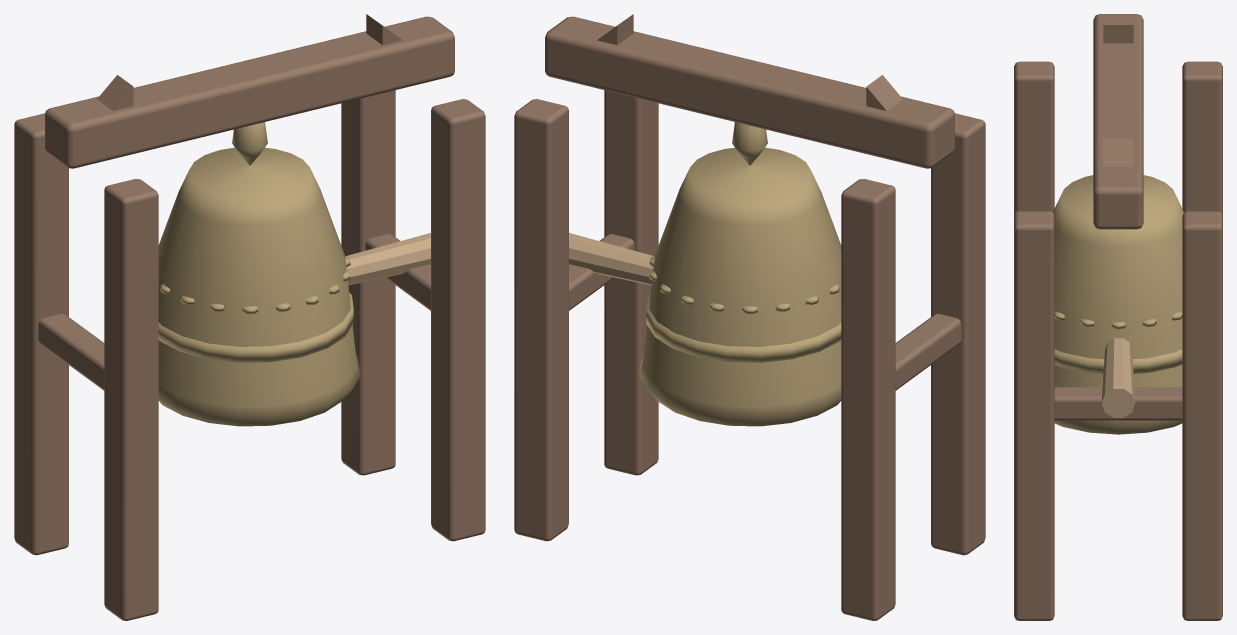
Rendered from bronze-bell.glb.
3 renders of one model, left to right at view 1: azimuth 30°, elevation 25°; view 2: azimuth 150°, elevation 25°; view 3: azimuth 270°, elevation 25°, orthographic. The views are drawn at different scales.
Visible parts, largest first — view 1: bronze-bell-on-frame, bell; view 2: bronze-bell-on-frame, bell; view 3: bronze-bell-on-frame, bell.
Boxes of the visible parts, left/top/right/bottom form: bronze-bell-on-frame: left=14, top=14, right=485, bottom=620; bell: left=158, top=122, right=360, bottom=426; bronze-bell-on-frame: left=514, top=14, right=985, bottom=620; bell: left=639, top=122, right=841, bottom=426; bronze-bell-on-frame: left=1014, top=14, right=1222, bottom=620; bell: left=1053, top=175, right=1183, bottom=434.
Bounding box in the file's own units: 2.55 × 3 × 1.24.
